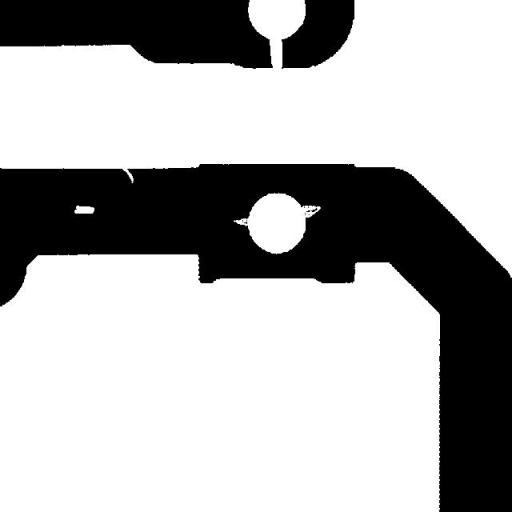mousebite: (111, 157, 141, 190), (290, 198, 328, 224), (226, 210, 258, 234)
open: (262, 28, 290, 78)
pin-hole: (66, 198, 102, 220)
